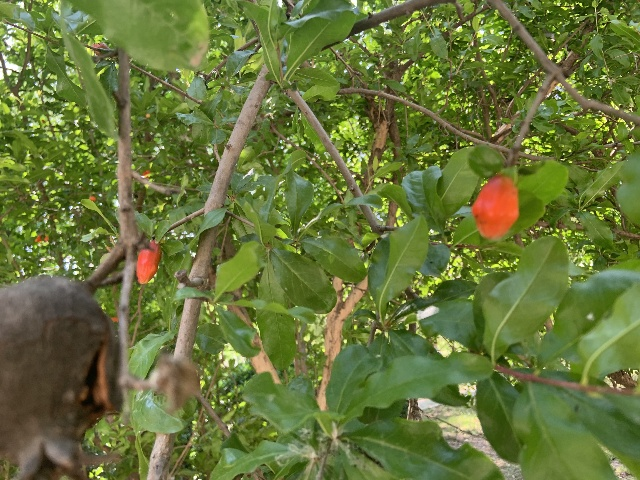bud: (472, 173, 519, 240), (136, 240, 161, 284), (91, 42, 110, 55)
